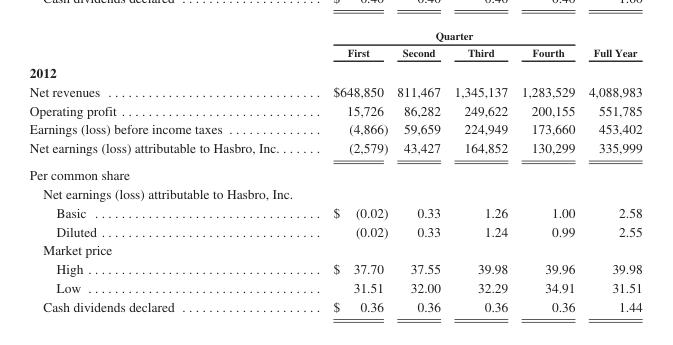table: (28, 29, 641, 313)
table column: (28, 29, 305, 313), (305, 29, 391, 313), (513, 29, 581, 313), (446, 29, 513, 313), (581, 29, 641, 313), (391, 29, 446, 313)
table column header: (28, 29, 641, 61)
table projected row header: (28, 161, 641, 183), (28, 61, 641, 81), (28, 183, 641, 202), (28, 240, 641, 259)
table row: (28, 138, 641, 161), (28, 161, 641, 183), (28, 61, 641, 81), (28, 81, 641, 100), (28, 100, 641, 119), (28, 119, 641, 138), (28, 183, 641, 202), (28, 202, 641, 221), (28, 221, 641, 240), (28, 240, 641, 259), (28, 259, 641, 278), (28, 43, 641, 61), (28, 278, 641, 296), (28, 296, 641, 313), (28, 29, 641, 43)
table spanning cell: (305, 29, 581, 43), (581, 29, 641, 61)
